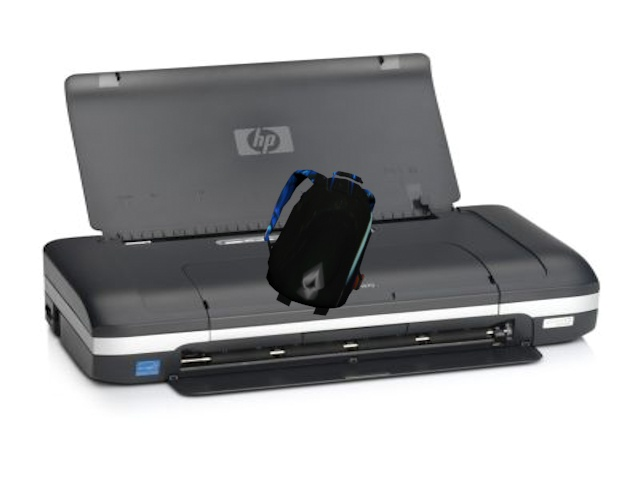back_pack: (256, 160, 385, 320)
